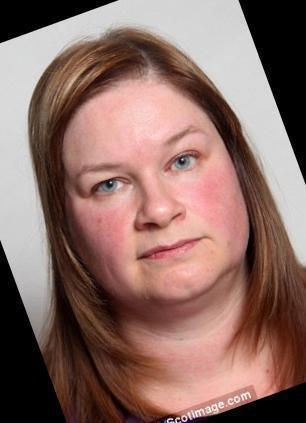Drunk: (59, 93, 243, 300)
